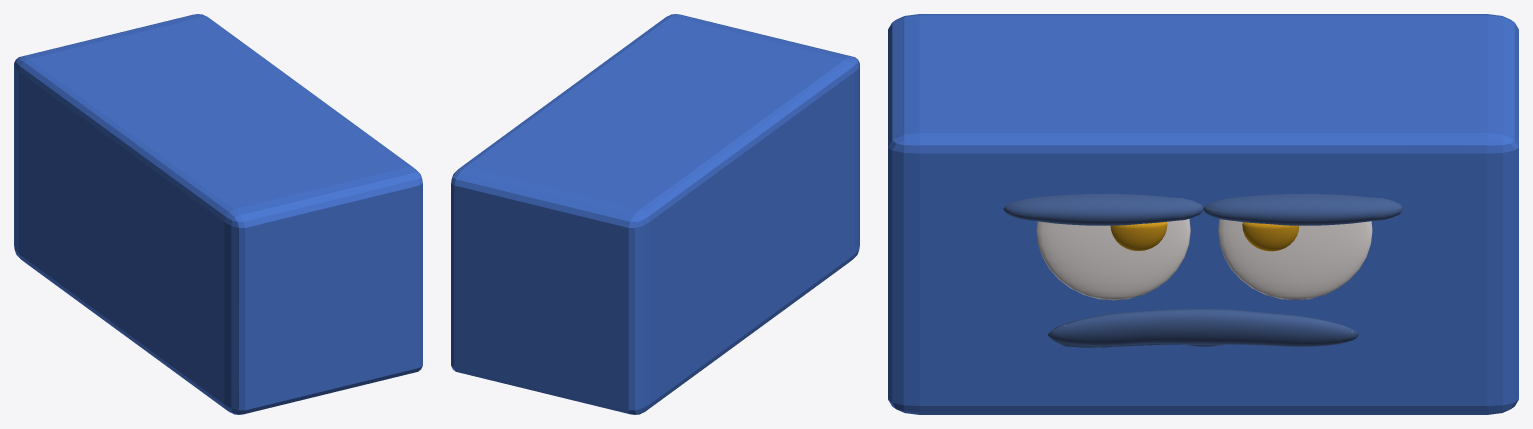
The model's file is MustacheRectangle.fbx.
The picture shows the model from 3 angles, left to right: view 1: azimuth 30°, elevation 25°; view 2: azimuth 150°, elevation 25°; view 3: azimuth 270°, elevation 25°; orthographic projection. The views are drawn at different scales.
Visible parts, largest first — view 1: Cube; view 2: Cube; view 3: Cube.
Boxes of the visible parts, left/top/right/bottom form: Cube: left=14, top=14, right=422, bottom=414; Cube: left=451, top=14, right=859, bottom=414; Cube: left=888, top=14, right=1518, bottom=414.
Size of the model in its own units: 215 by 200 by 408.
1 material, 1 textured.
